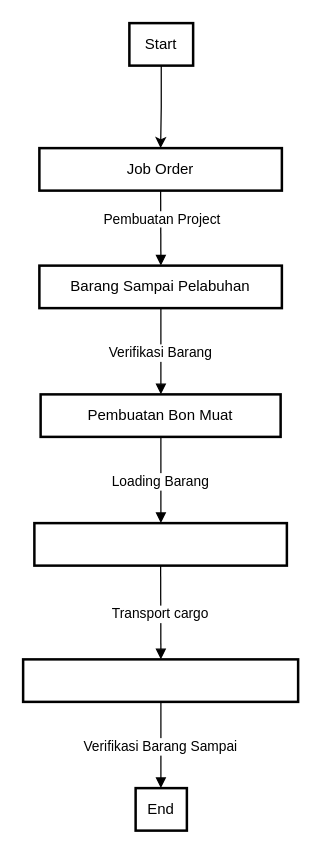
This 320x853 diagram has some shape labels left out. Here are the shapes that lost their labels. From the top down, the centre of each, then its label:
pixel 160 543: Pembuatan Surat Jalan
pixel 160 680: Pengiriman
